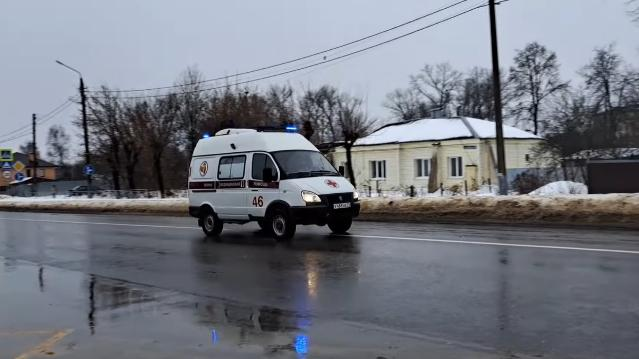ambulance: (186, 125, 362, 241)
non emergency car: (66, 184, 104, 198)
